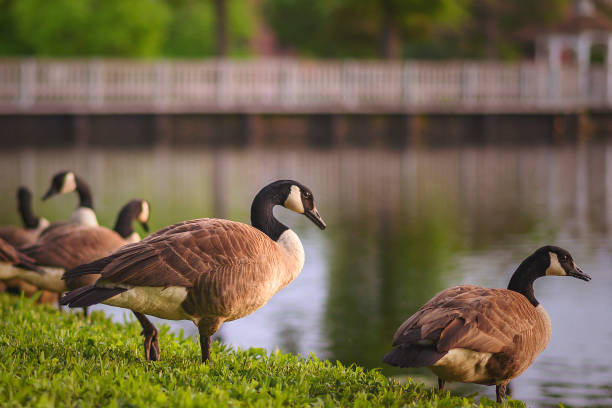goose: (54, 178, 330, 367), (375, 243, 593, 399), (45, 197, 152, 272), (40, 169, 103, 230)
